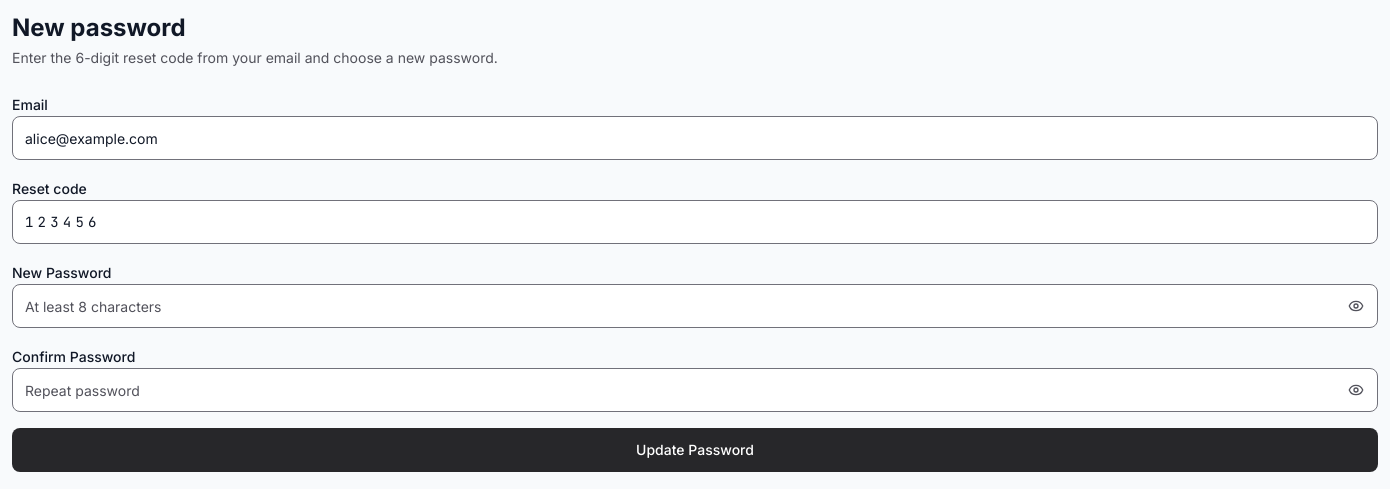
Scenario: ResetPasswordPage › submits email + code + newPassword to the /confirm endpoint
Type "newpassword1" into the password field labelled "New Password".
click(695, 306); type("newpassword1")  # box [12,284,1378,328]
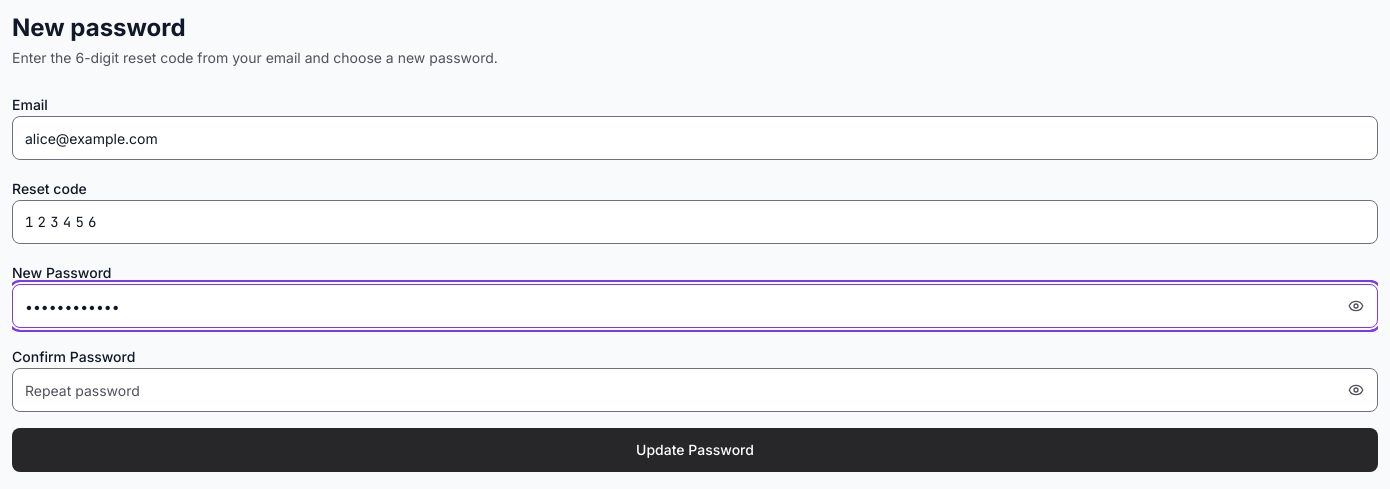
Type "newpassword1" into the password field labelled "Confirm Password".
click(695, 390); type("newpassword1")  # box [12,368,1378,412]
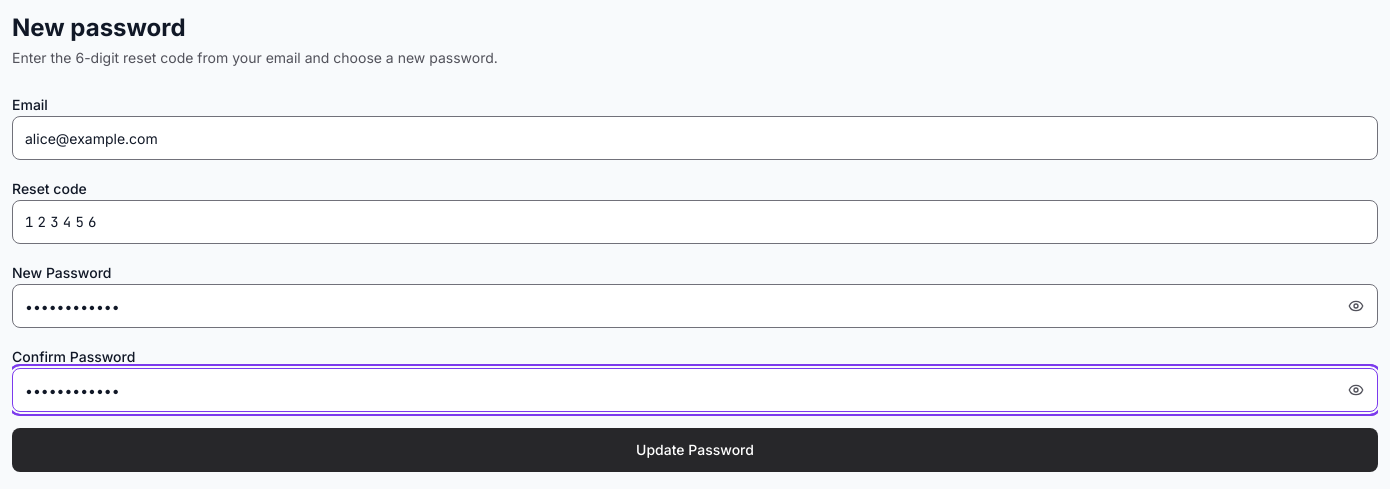
Click the button "Update Password".
click(695, 450)  # box [12,428,1378,472]
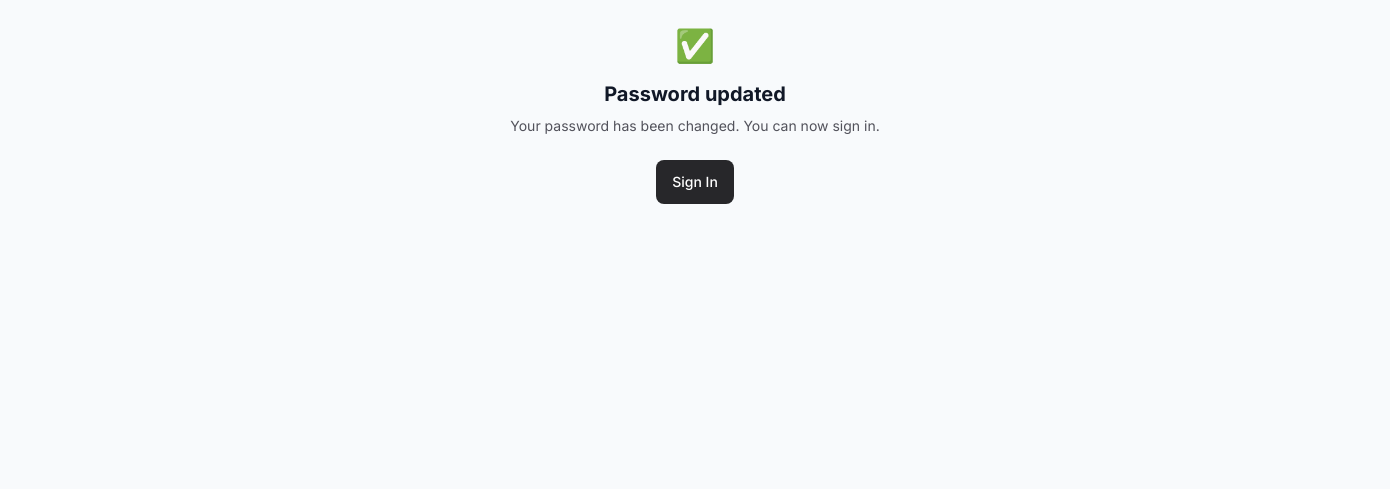
Expected: the heading "Password updated" is shown, [604,82,786,106]
